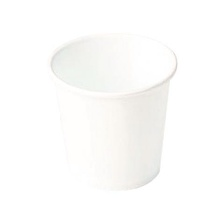paper_cup: (44, 26, 180, 195)
